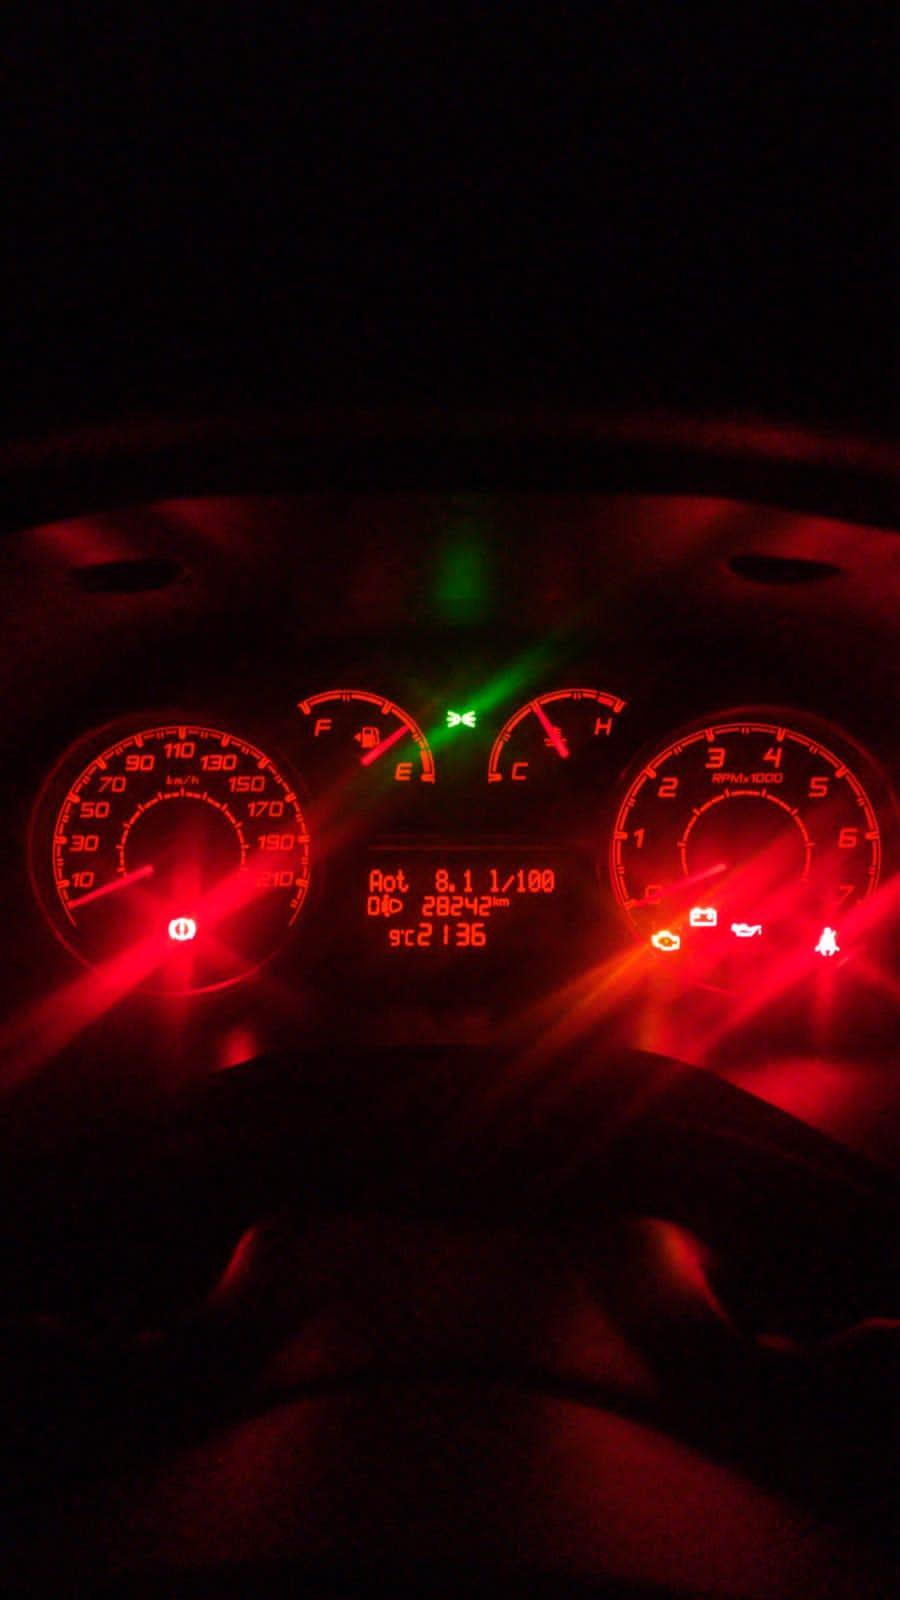,: (448, 884, 456, 892)
0: (541, 868, 555, 893), (527, 868, 541, 893), (366, 895, 380, 915)
1: (462, 868, 473, 892), (516, 868, 526, 893), (442, 922, 449, 945)
2: (416, 921, 433, 945), (478, 895, 492, 916), (421, 895, 435, 916), (451, 895, 464, 916)
3: (455, 922, 470, 946)
4: (464, 895, 479, 915)
6: (471, 921, 486, 946)
8: (434, 868, 448, 892), (436, 895, 451, 916)
9: (389, 927, 400, 946)
X: (368, 867, 384, 893), (395, 868, 409, 892), (488, 867, 500, 893), (501, 874, 515, 893), (382, 874, 396, 892), (404, 927, 416, 946), (499, 897, 509, 905), (492, 895, 499, 905)
odometer: (340, 851, 562, 956)
